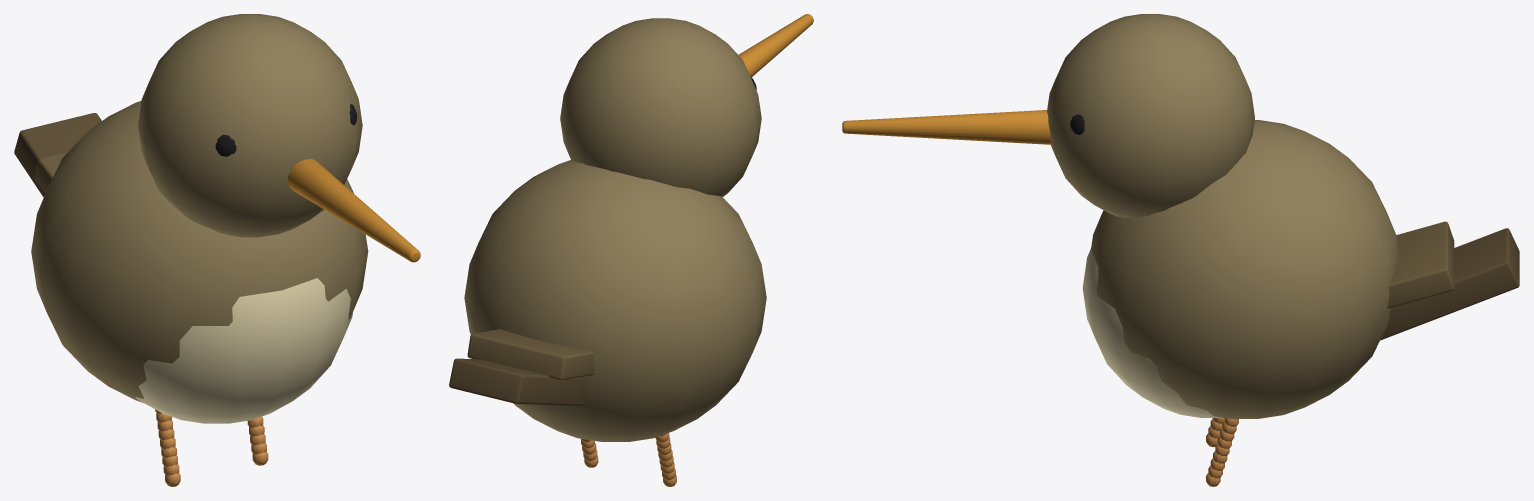
Rendered from finch_long.glb.
3 views of the same model, side by side, from view 1: azimuth 30°, elevation 25°; view 2: azimuth 150°, elevation 25°; view 3: azimuth 270°, elevation 25° (orthographic). The views are drawn at different scales.
Parts seen in each view (by area): view 1: finch_long; view 2: finch_long; view 3: finch_long.
Boxes of the visible parts, box(x1,y1,x2,y2) form: finch_long: box(14, 14, 420, 486); finch_long: box(449, 14, 813, 486); finch_long: box(842, 14, 1519, 486).
Bounding box in the file's own units: 0.5909 × 0.936 × 1.3.
